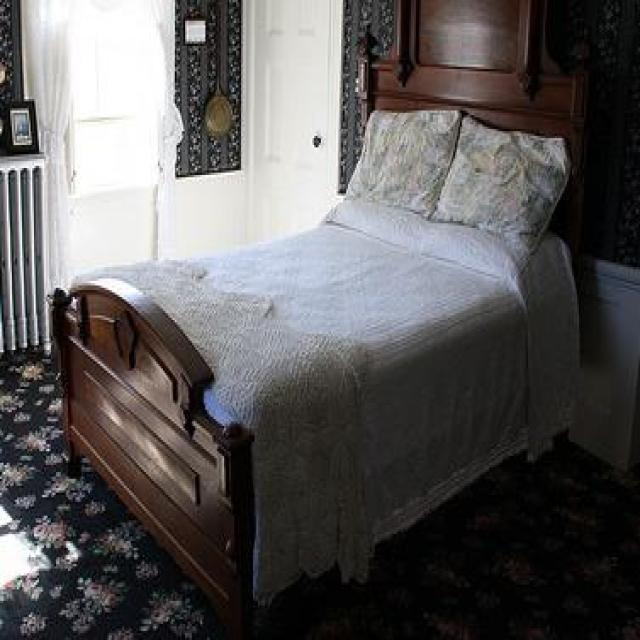bed: (46, 102, 586, 630)
